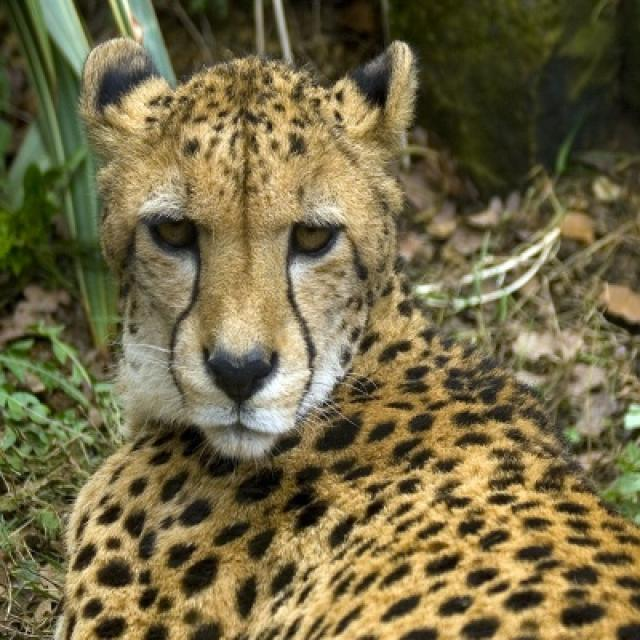Cheetah: (49, 37, 638, 638)
